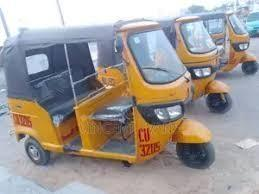keke: (2, 20, 234, 190)
